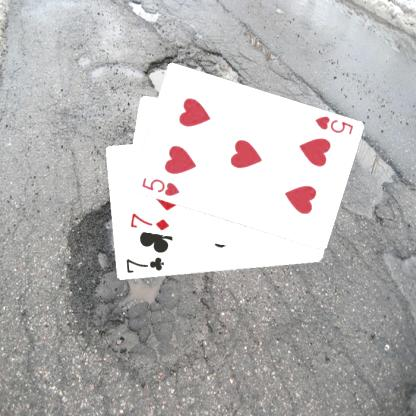5H: (139, 175, 180, 198), (312, 114, 354, 136)
7C: (123, 255, 165, 275)
7D: (128, 210, 170, 232)
